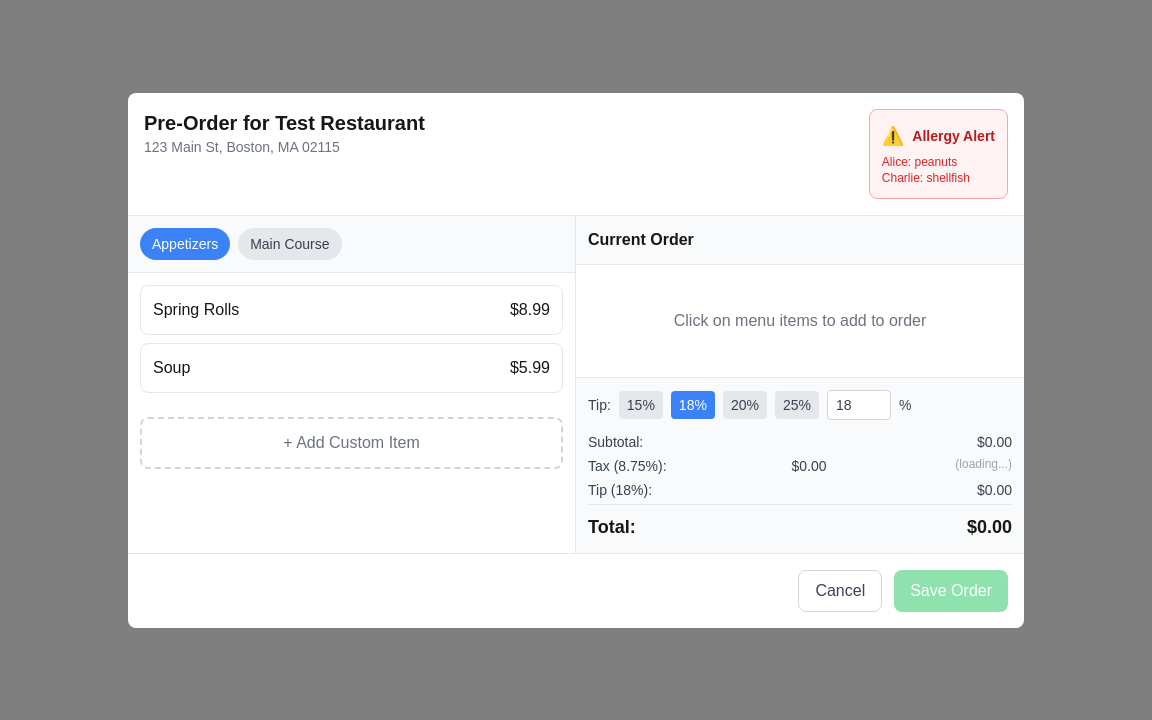
Test: PreOrder › can select members and add item to order
What coordinates should you click on to do the following:
click the text "Spring Rolls"
I would click on:
 (196, 310)
Its box is [153,298,239,322].
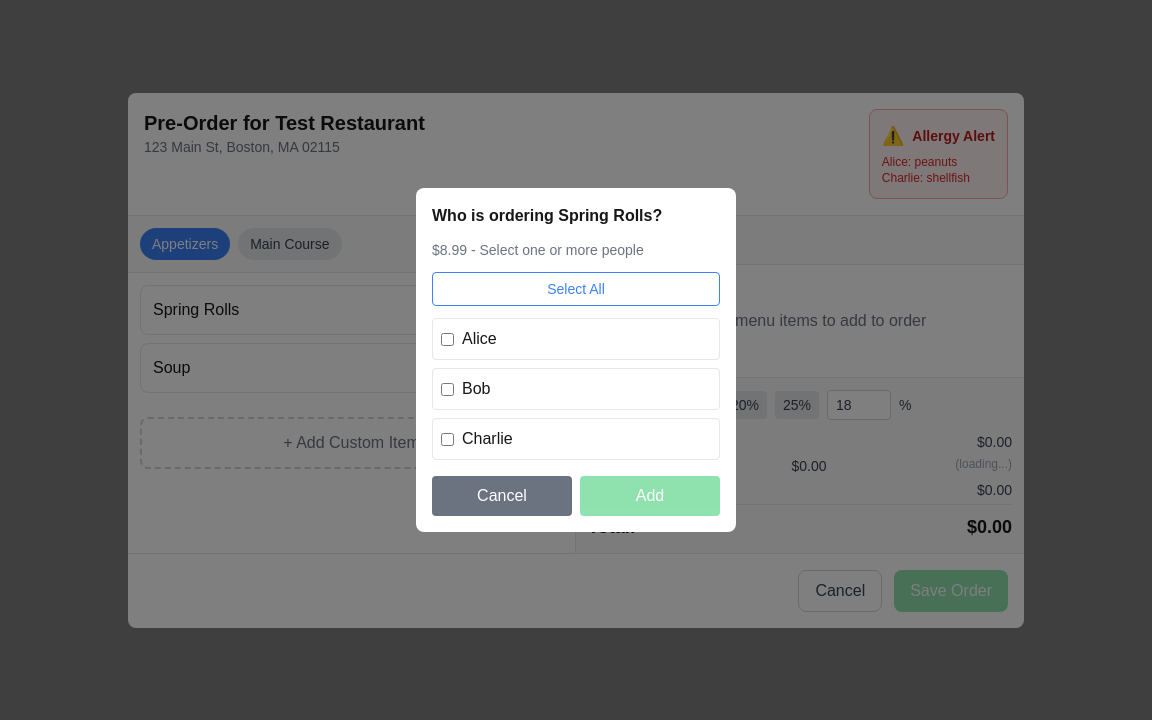
# Select Alice
What coordinates should you click on to do the following:
click the checkbox labelled "Alice"
I would click on:
 (448, 339)
Its box is [441,332,454,346].
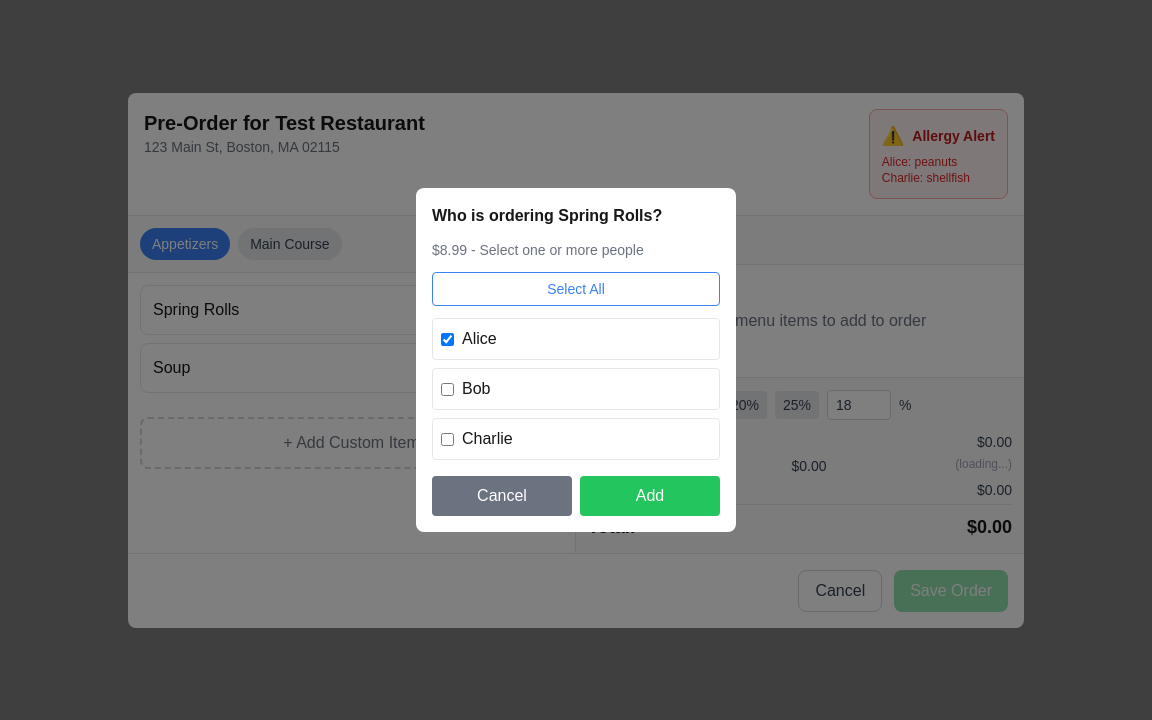
# Click Add button
What coordinates should you click on to do the following:
click the button "Add"
I would click on:
 (650, 496)
Its box is [580,476,720,516].
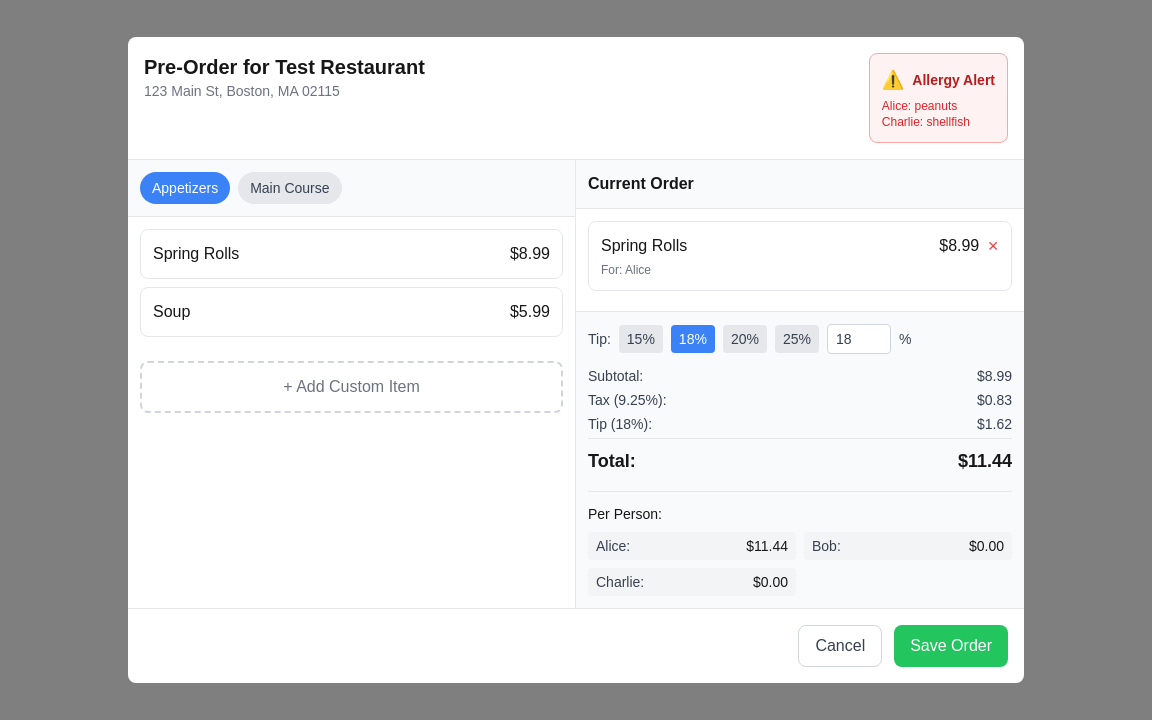
Result: the text "For: Alice" is shown at [601,263,651,277]
